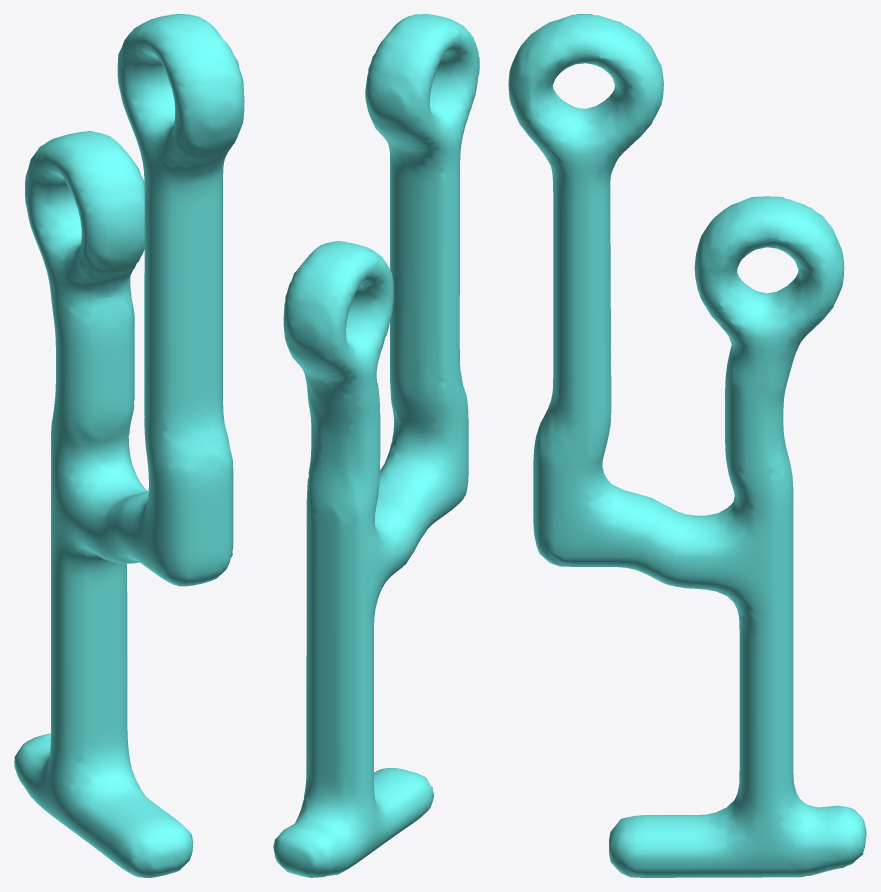
Rendered from chewmodel01.glb.
The picture shows the model from 3 angles, left to right: view 1: azimuth 30°, elevation 25°; view 2: azimuth 150°, elevation 25°; view 3: azimuth 270°, elevation 25°; orthographic projection. The views are drawn at different scales.
Visible parts, largest first — view 1: symbol chew 01 GLITCH print 01 (1); view 2: symbol chew 01 GLITCH print 01 (1); view 3: symbol chew 01 GLITCH print 01 (1).
Part boxes in pixels (left/top/right/bottom): symbol chew 01 GLITCH print 01 (1): left=14, top=14, right=244, bottom=877; symbol chew 01 GLITCH print 01 (1): left=273, top=14, right=479, bottom=877; symbol chew 01 GLITCH print 01 (1): left=508, top=14, right=866, bottom=877.
Bounding box in the file's own units: 123 × 1395 × 532.
